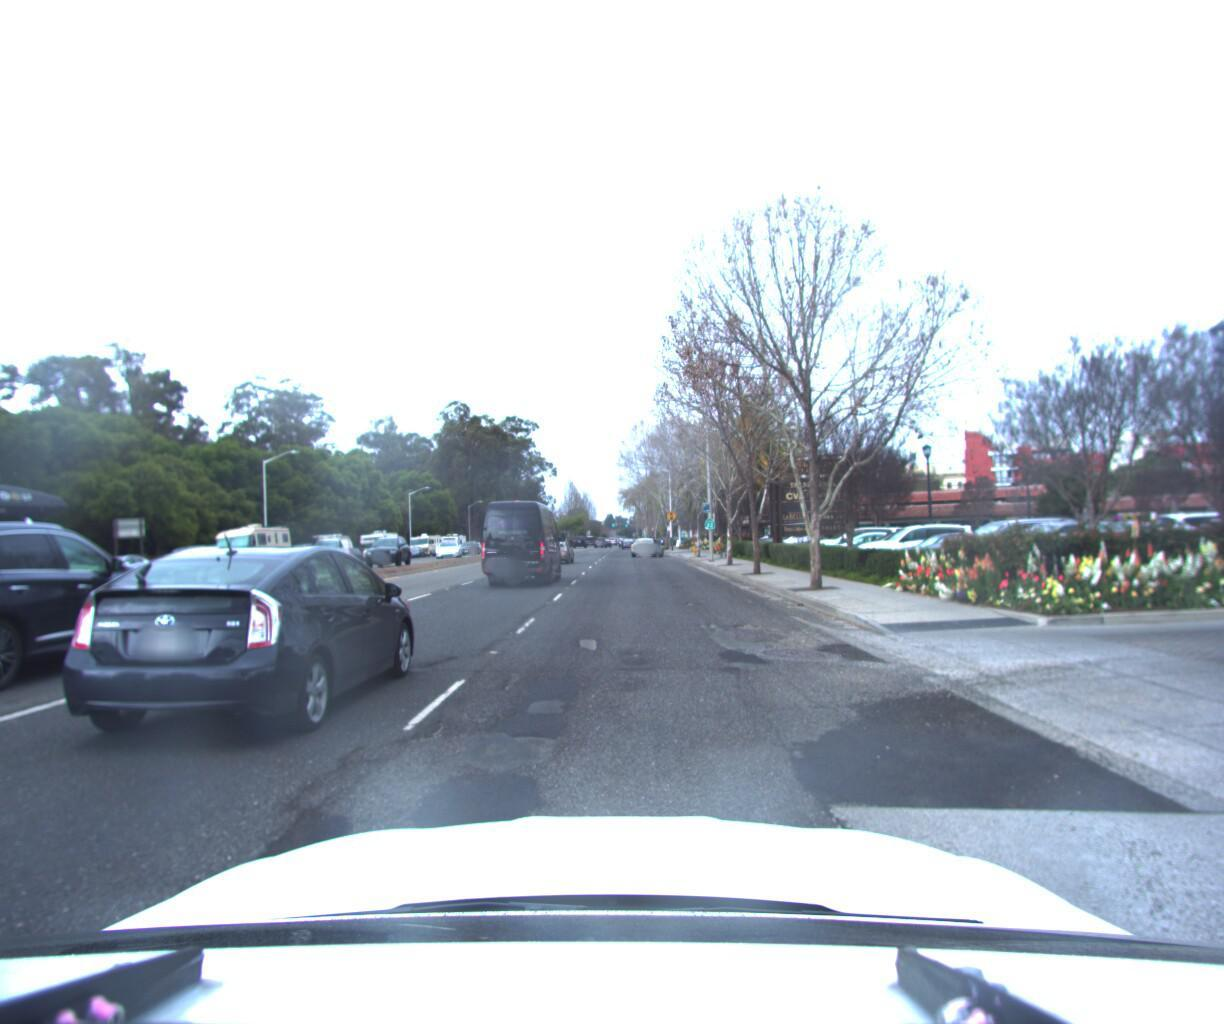car: (25, 534, 434, 766), (0, 464, 193, 724), (957, 511, 1180, 589), (907, 514, 1103, 583), (847, 519, 982, 573), (804, 523, 910, 564), (815, 528, 926, 566), (156, 547, 237, 583), (80, 555, 164, 590), (751, 521, 820, 556), (305, 533, 360, 568), (365, 537, 416, 570), (281, 542, 327, 570), (555, 536, 592, 564), (630, 535, 667, 556), (435, 540, 463, 558), (461, 539, 484, 554)
other_vehicle: (480, 497, 567, 589), (210, 521, 301, 577)
